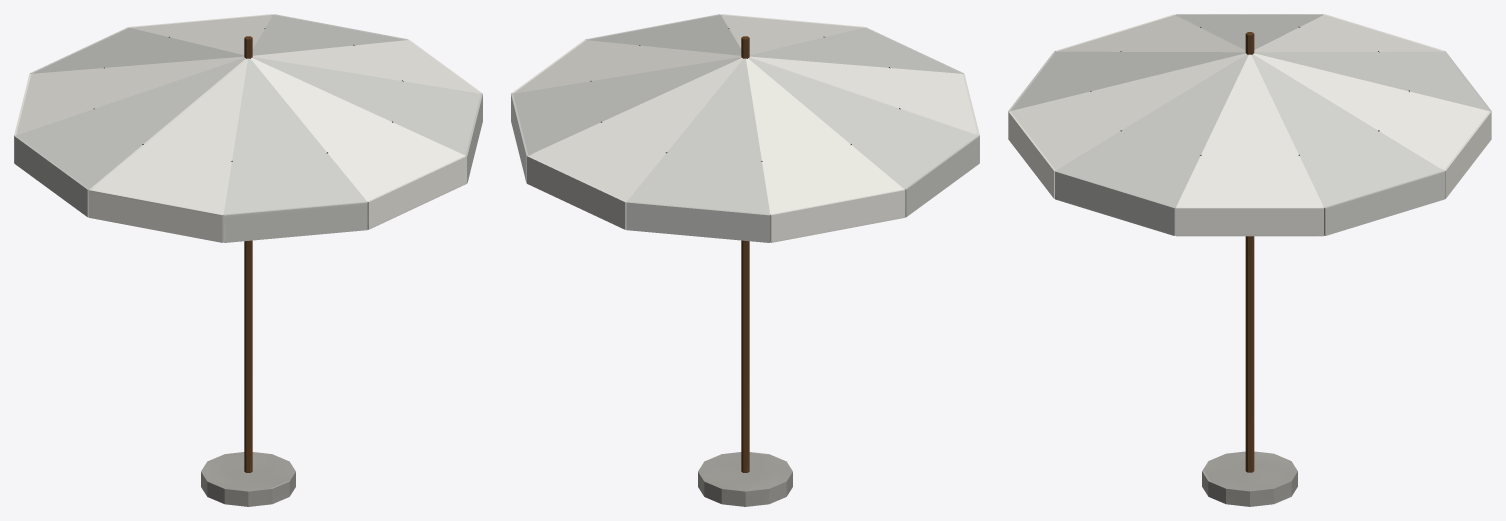
Rendered from slunecnik_3f1eaf3c.glb.
3 views of the same model, side by side, from view 1: azimuth 30°, elevation 25°; view 2: azimuth 150°, elevation 25°; view 3: azimuth 270°, elevation 25° (orthographic).
Parts seen in each view (by area): view 1: dum; view 2: dum; view 3: dum.
Boxes of the visible parts, x1=… form: dum: x1=14, y1=14, x2=482, y2=506; dum: x1=511, y1=14, x2=979, y2=506; dum: x1=1008, y1=14, x2=1491, y2=506.
Bounding box in the file's own units: 2.68 × 2.91 × 2.82.
1 material, 1 textured.
